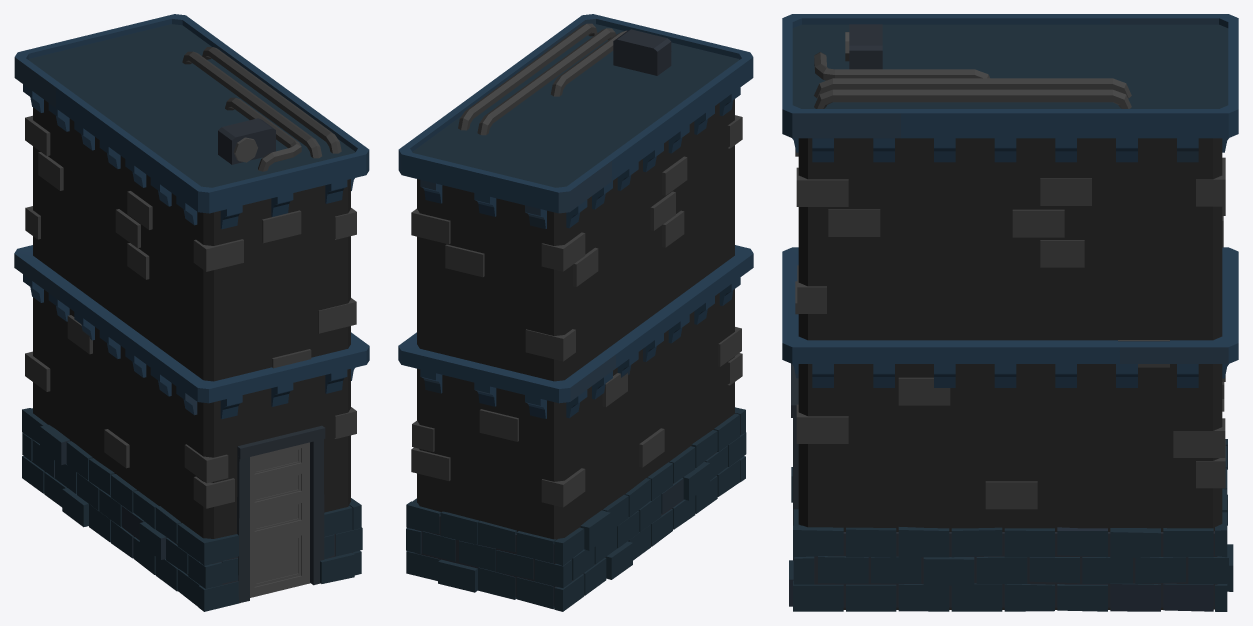
The model's file is 2Story Slim.glb.
The picture shows the model from 3 angles, left to right: view 1: azimuth 30°, elevation 25°; view 2: azimuth 150°, elevation 25°; view 3: azimuth 270°, elevation 25°; orthographic projection. The views are drawn at different scales.
Visible parts, largest first — view 1: 2Story_Slim; view 2: 2Story_Slim; view 3: 2Story_Slim.
Boxes of the visible parts, left/top/right/bottom form: 2Story_Slim: left=14, top=14, right=369, bottom=611; 2Story_Slim: left=398, top=14, right=753, bottom=611; 2Story_Slim: left=782, top=14, right=1238, bottom=611.
Size of the model in its own units: 2.68 by 6.62 by 5.17.
1 material, 1 textured.
